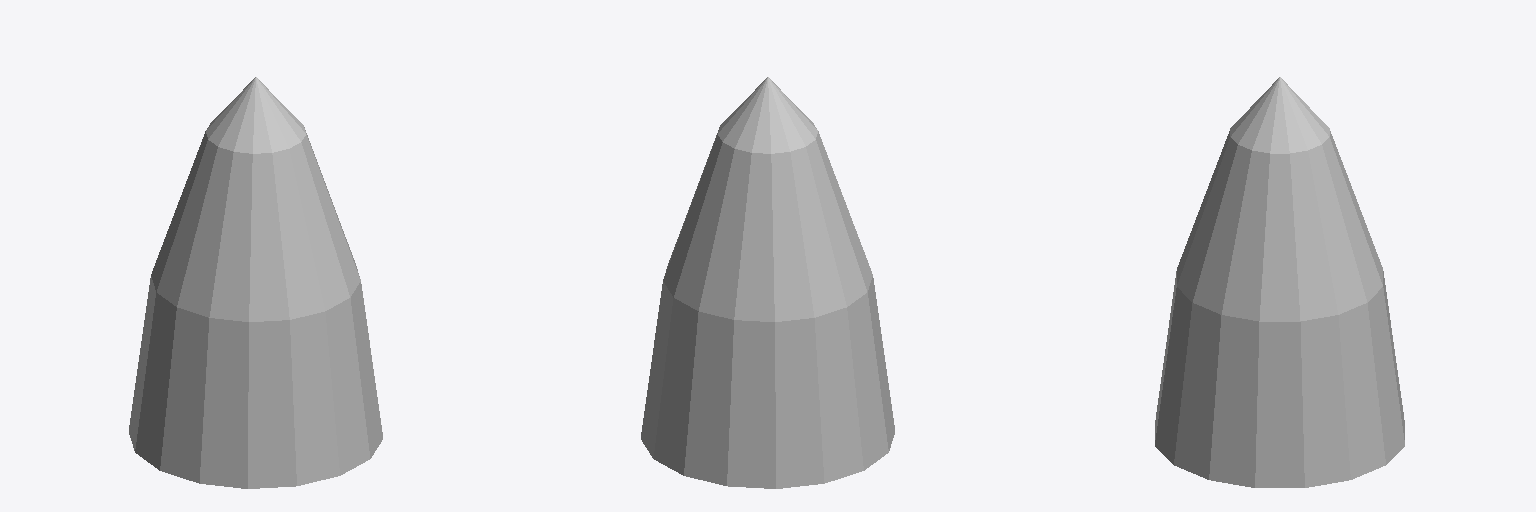
The model's file is Centaur_Nose_A_Collider.obj.
3 renders of one model, left to right at view 1: azimuth 30°, elevation 25°; view 2: azimuth 150°, elevation 25°; view 3: azimuth 270°, elevation 25°, orthographic.
Visible parts, largest first — view 1: Centaur_Nose_A_Collider; view 2: Centaur_Nose_A_Collider; view 3: Centaur_Nose_A_Collider.
Part boxes in pixels (bbox=[...]): Centaur_Nose_A_Collider: bbox=[129, 77, 382, 488]; Centaur_Nose_A_Collider: bbox=[641, 77, 894, 488]; Centaur_Nose_A_Collider: bbox=[1155, 77, 1404, 487].
Size of the model in its own units: 1.88 by 2.96 by 1.88.